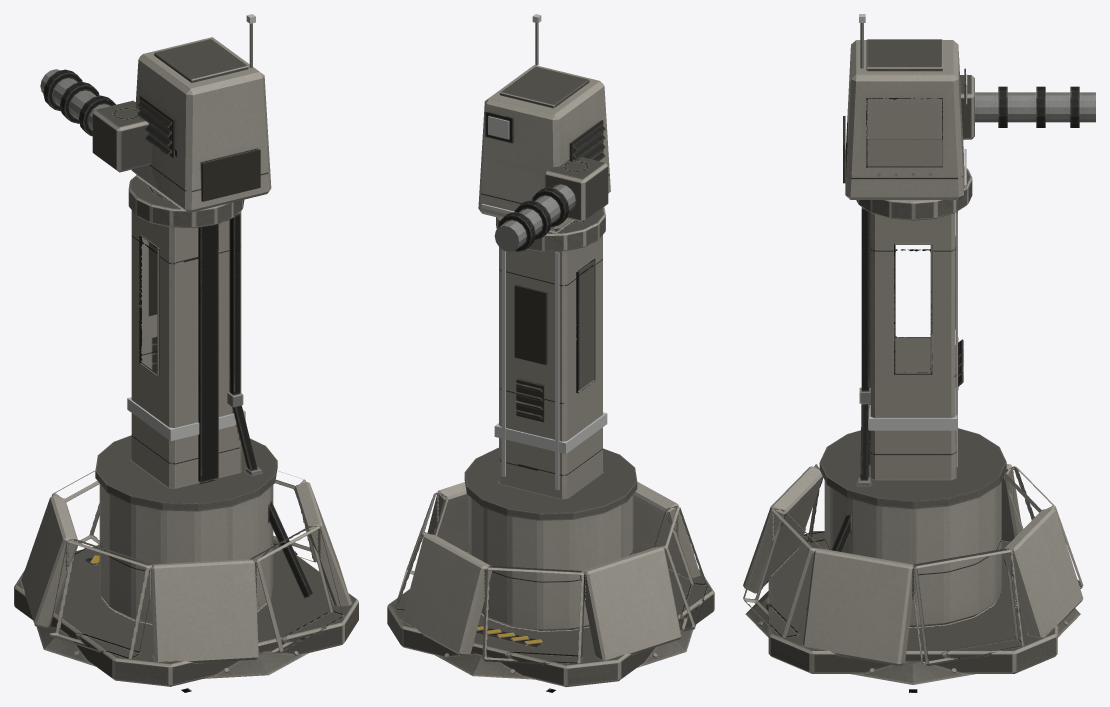
The model's file is ord_sentry_tower.fbx.
3 views of the same model, side by side, from view 1: azimuth 30°, elevation 25°; view 2: azimuth 150°, elevation 25°; view 3: azimuth 270°, elevation 25° (orthographic). The views are drawn at different scales.
Visible parts, largest first — view 1: base_bar, turret_bar, barrel_bar, base_glow_running_bar; view 2: base_bar, turret_bar, barrel_bar, base_glow_running_bar, turret_glow_running_bar; view 3: base_bar, turret_bar, barrel_bar, base_glow_running_bar.
Part boxes in pixels (x1,y1,x2,y2): base_bar: (14, 175, 358, 686); turret_bar: (131, 23, 271, 212); barrel_bar: (40, 69, 152, 172); base_glow_running_bar: (127, 397, 245, 441); base_bar: (387, 207, 714, 687); turret_bar: (478, 22, 610, 231); barrel_bar: (494, 157, 608, 252); base_glow_running_bar: (494, 249, 607, 490); turret_glow_running_bar: (481, 14, 541, 214); base_bar: (743, 166, 1083, 684); turret_bar: (843, 23, 965, 199); barrel_bar: (960, 75, 1095, 139); base_glow_running_bar: (869, 211, 957, 467).
Size of the model in its own units: 801 by 1806 by 831.
Materials: 2 (2 with a texture image).
